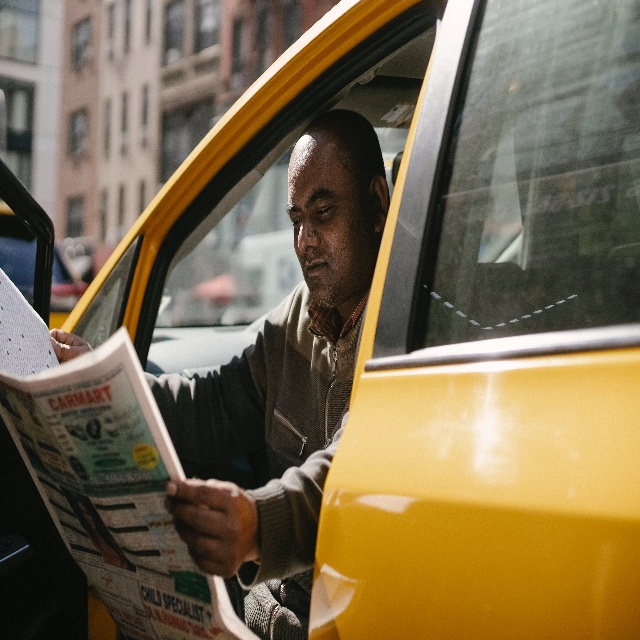Sin_guantes: (165, 476, 255, 579), (49, 329, 94, 365)
